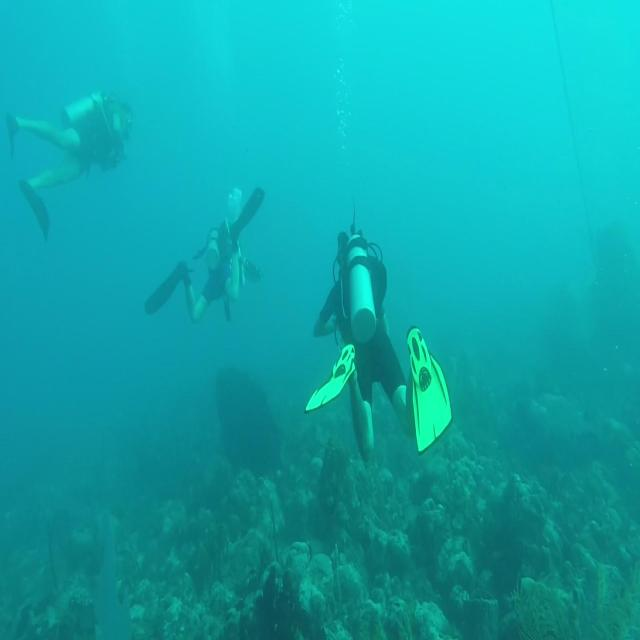human: (305, 224, 452, 463), (5, 87, 133, 242), (144, 184, 265, 324)
